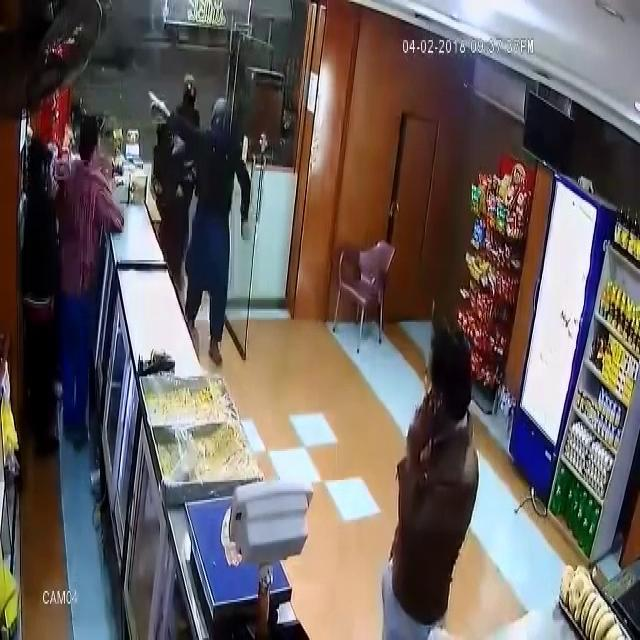weapon: (144, 85, 164, 118)
